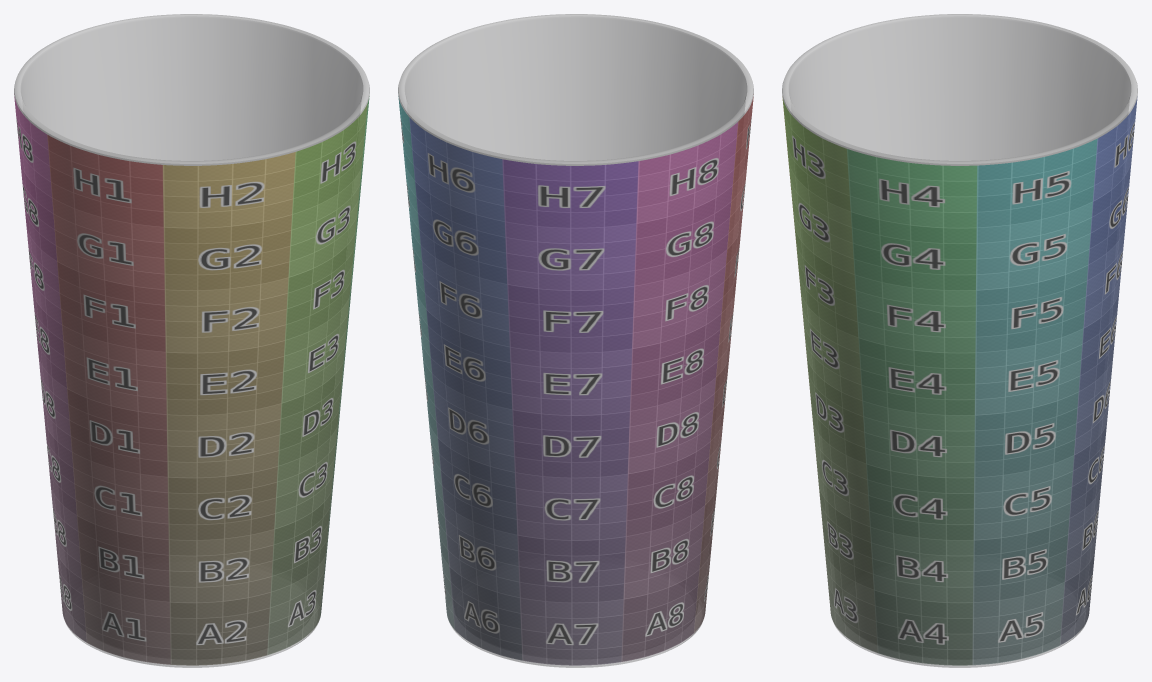
Rendered from Gobelet 25 33.glb.
3 views of the same model, side by side, from view 1: azimuth 30°, elevation 25°; view 2: azimuth 150°, elevation 25°; view 3: azimuth 270°, elevation 25° (orthographic).
Visible parts, largest first — view 1: Cylinder; view 2: Cylinder; view 3: Cylinder.
Part boxes in pixels (<box>): Cylinder: <box>14,14,369,667</box>; Cylinder: <box>398,14,753,667</box>; Cylinder: <box>782,14,1137,667</box>.
Size of the model in its own units: 0.0714 by 0.1166 by 0.0714.
Materials: 2 (1 with a texture image).
